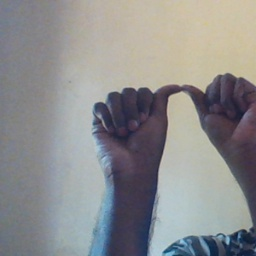A: (85, 68, 256, 162)
